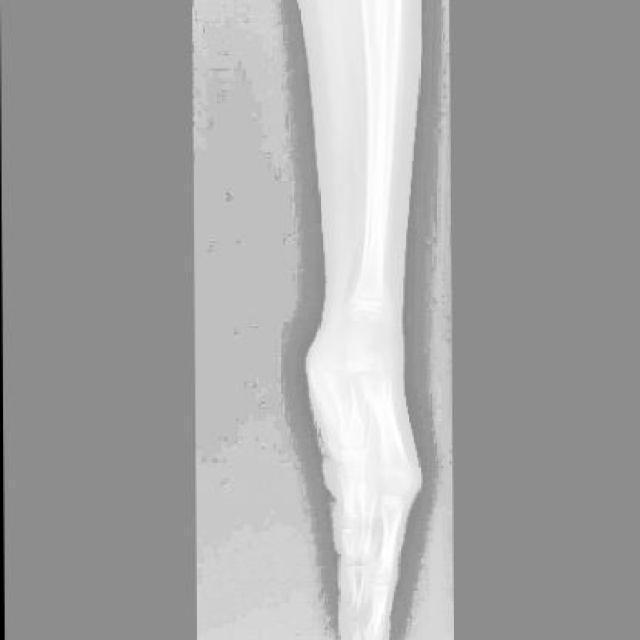Fracture: (342, 336, 382, 370)
